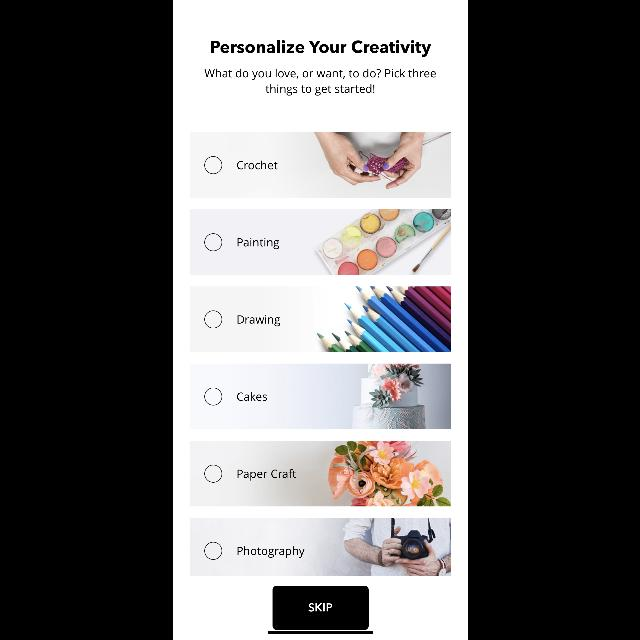backgroundimage: (190, 132, 450, 198), (190, 286, 450, 352), (190, 210, 450, 274), (190, 364, 450, 428), (190, 442, 450, 506), (190, 518, 450, 576)
checkbox: (203, 541, 221, 559), (203, 310, 221, 328), (203, 233, 221, 251), (203, 465, 220, 483), (203, 156, 220, 174), (203, 388, 221, 404)
text: (204, 68, 436, 95), (210, 41, 430, 58), (236, 546, 304, 558), (237, 470, 295, 480), (237, 238, 279, 250), (237, 316, 280, 326), (237, 160, 277, 170), (236, 392, 266, 402)
textbutton: (272, 586, 368, 630)
